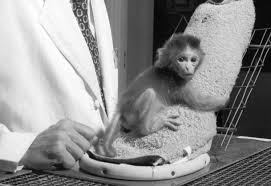monkey: (131, 7, 220, 153)
